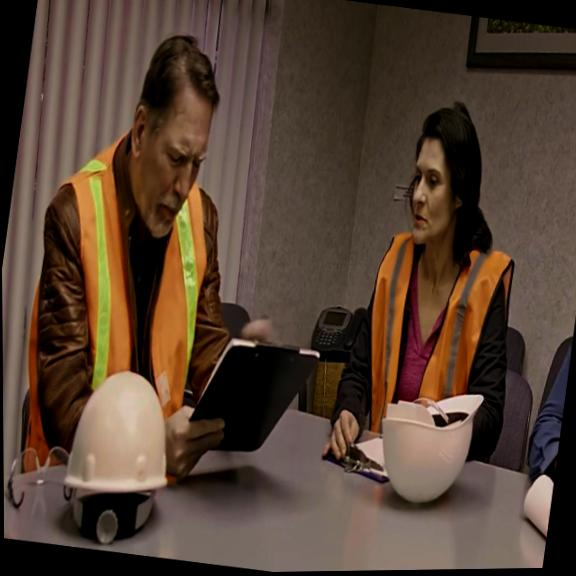safety_vest: (6, 120, 224, 492), (355, 226, 522, 449)
